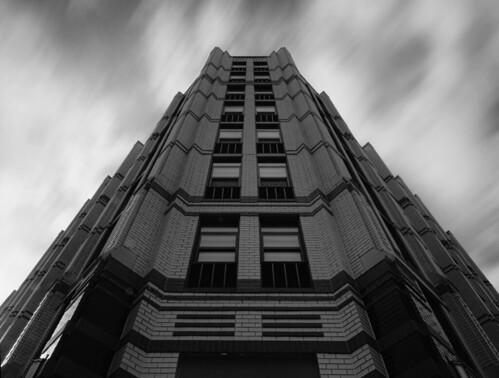building: (5, 40, 499, 378)
